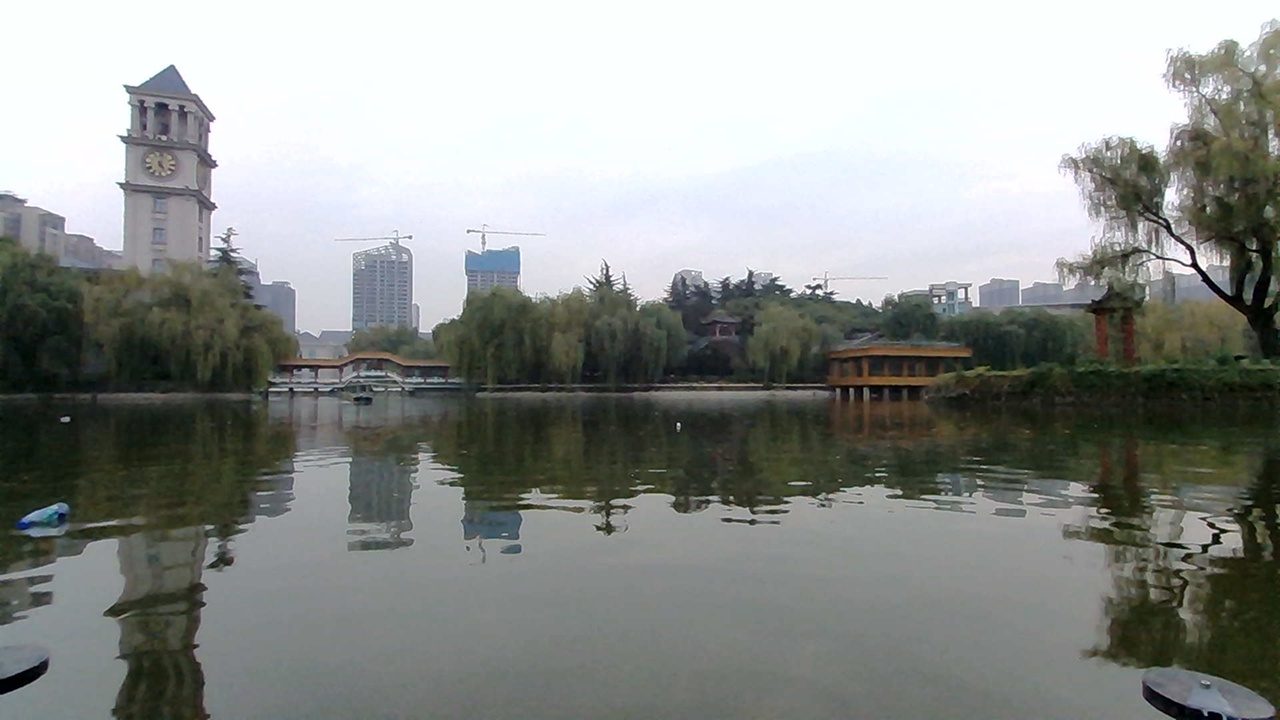bottle: (19, 503, 75, 540), (660, 411, 702, 440), (52, 403, 91, 428)
